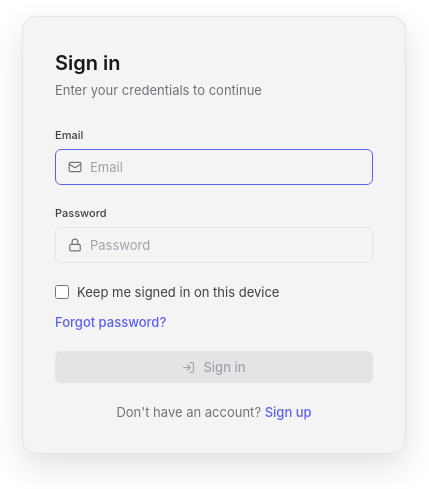
Test: LoginForm › submit button enables when both fields are filled
The image size is (429, 489).
Type "a@b.com" into the field with placeholder "Email". click: [225, 167]
box: [90, 158, 360, 176]
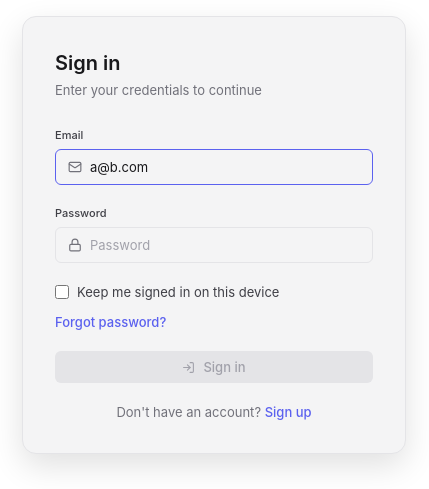
Type "secret" into the password field with placeholder "Password". click: [225, 245]
box: [90, 236, 360, 254]
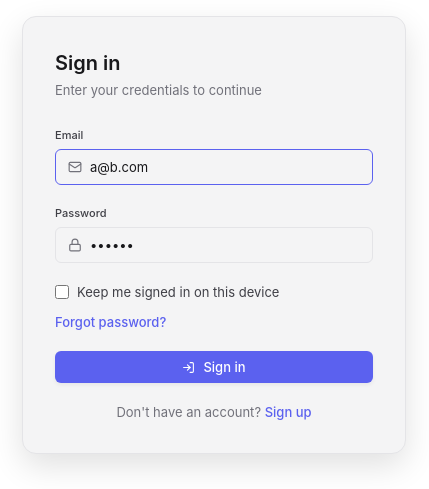
Expected: the button "Sign in" is enabled, [55, 351, 373, 383]
